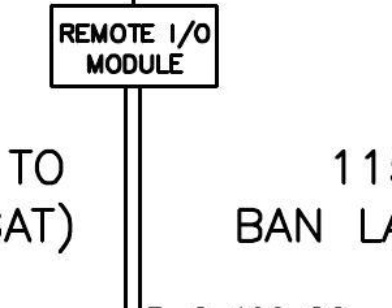remote_io_module: (48, 4, 219, 89)
